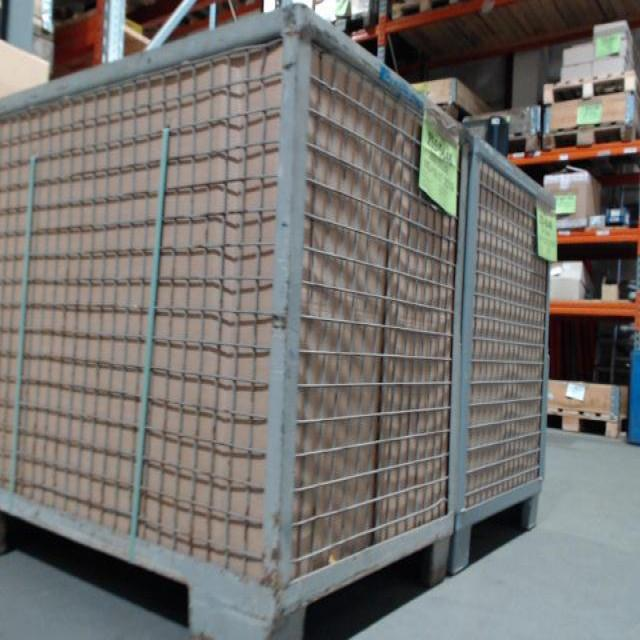pallet: (540, 66, 640, 107), (542, 117, 640, 149), (546, 410, 634, 440), (390, 0, 460, 22), (504, 129, 542, 154)
stillage: (3, 5, 556, 639)
